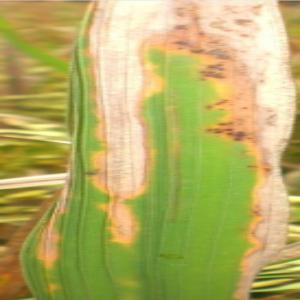Hawar Daun: (205, 1, 299, 141), (83, 1, 149, 193), (133, 1, 228, 59), (243, 142, 293, 247)
